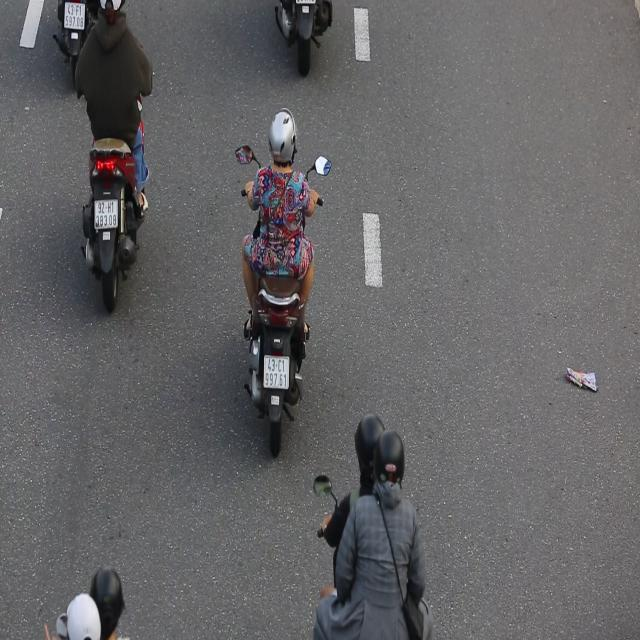motorbike: (236, 102, 332, 463)
